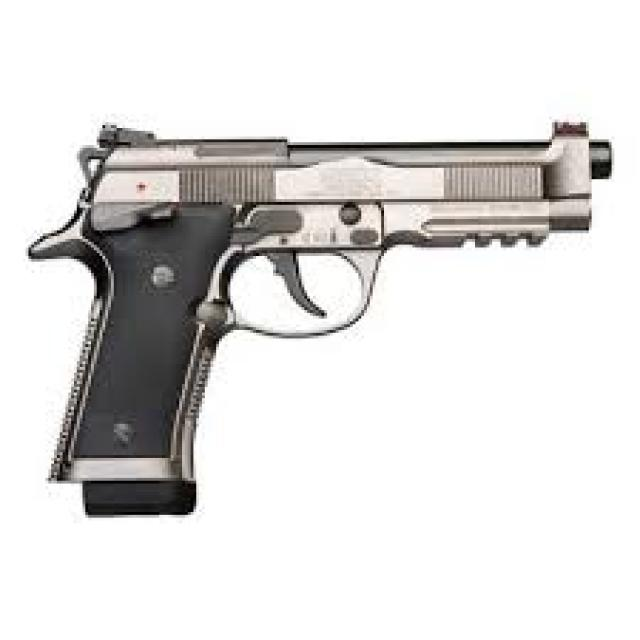pistol: (19, 119, 621, 522)
